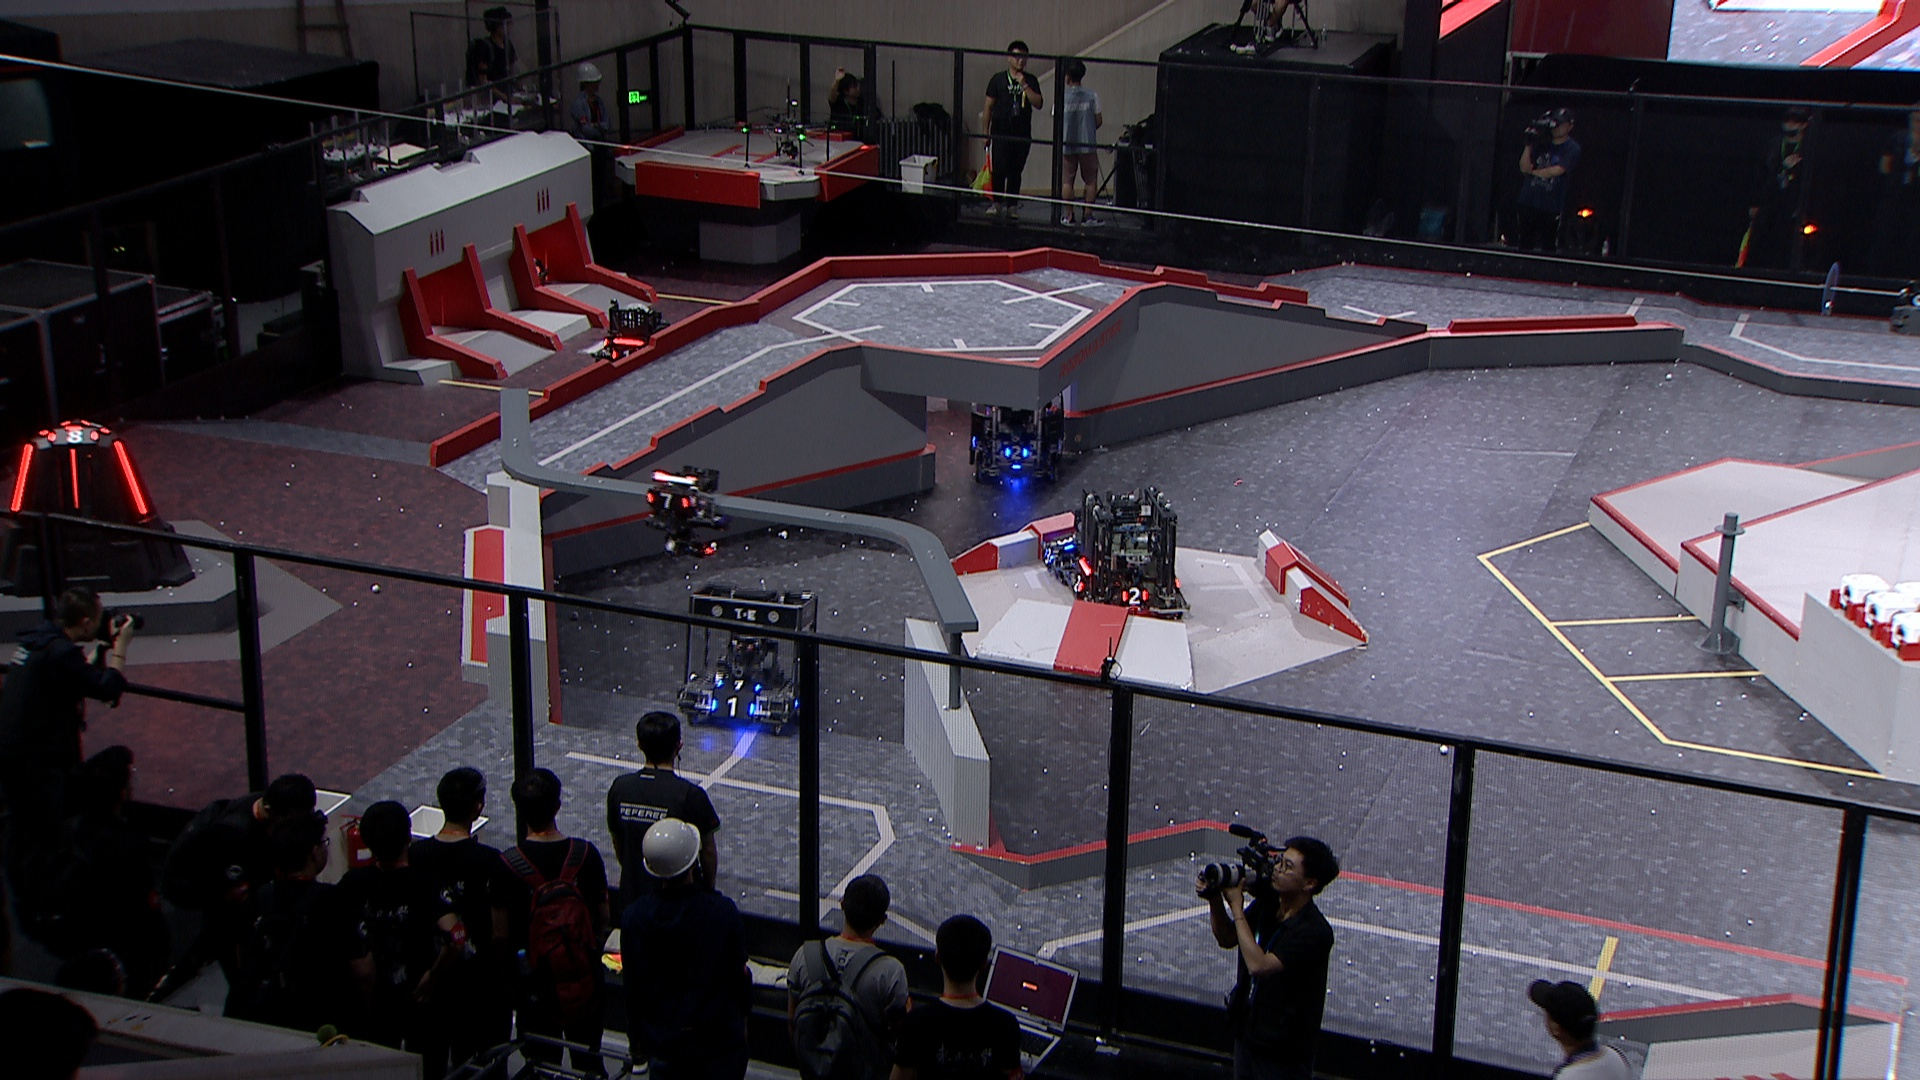armor: (112, 440, 148, 518), (8, 440, 32, 514), (708, 694, 754, 717), (646, 491, 688, 510), (46, 429, 102, 442), (69, 446, 79, 509), (716, 679, 757, 692), (1002, 443, 1027, 460), (1122, 585, 1147, 603), (612, 345, 633, 365), (1069, 572, 1087, 595), (1043, 547, 1059, 564), (1058, 534, 1073, 550)
car: (674, 578, 823, 738), (1065, 491, 1192, 622), (960, 373, 1076, 493), (591, 297, 676, 384), (1036, 520, 1092, 583), (509, 237, 571, 291)
watcher: (641, 463, 735, 564)
